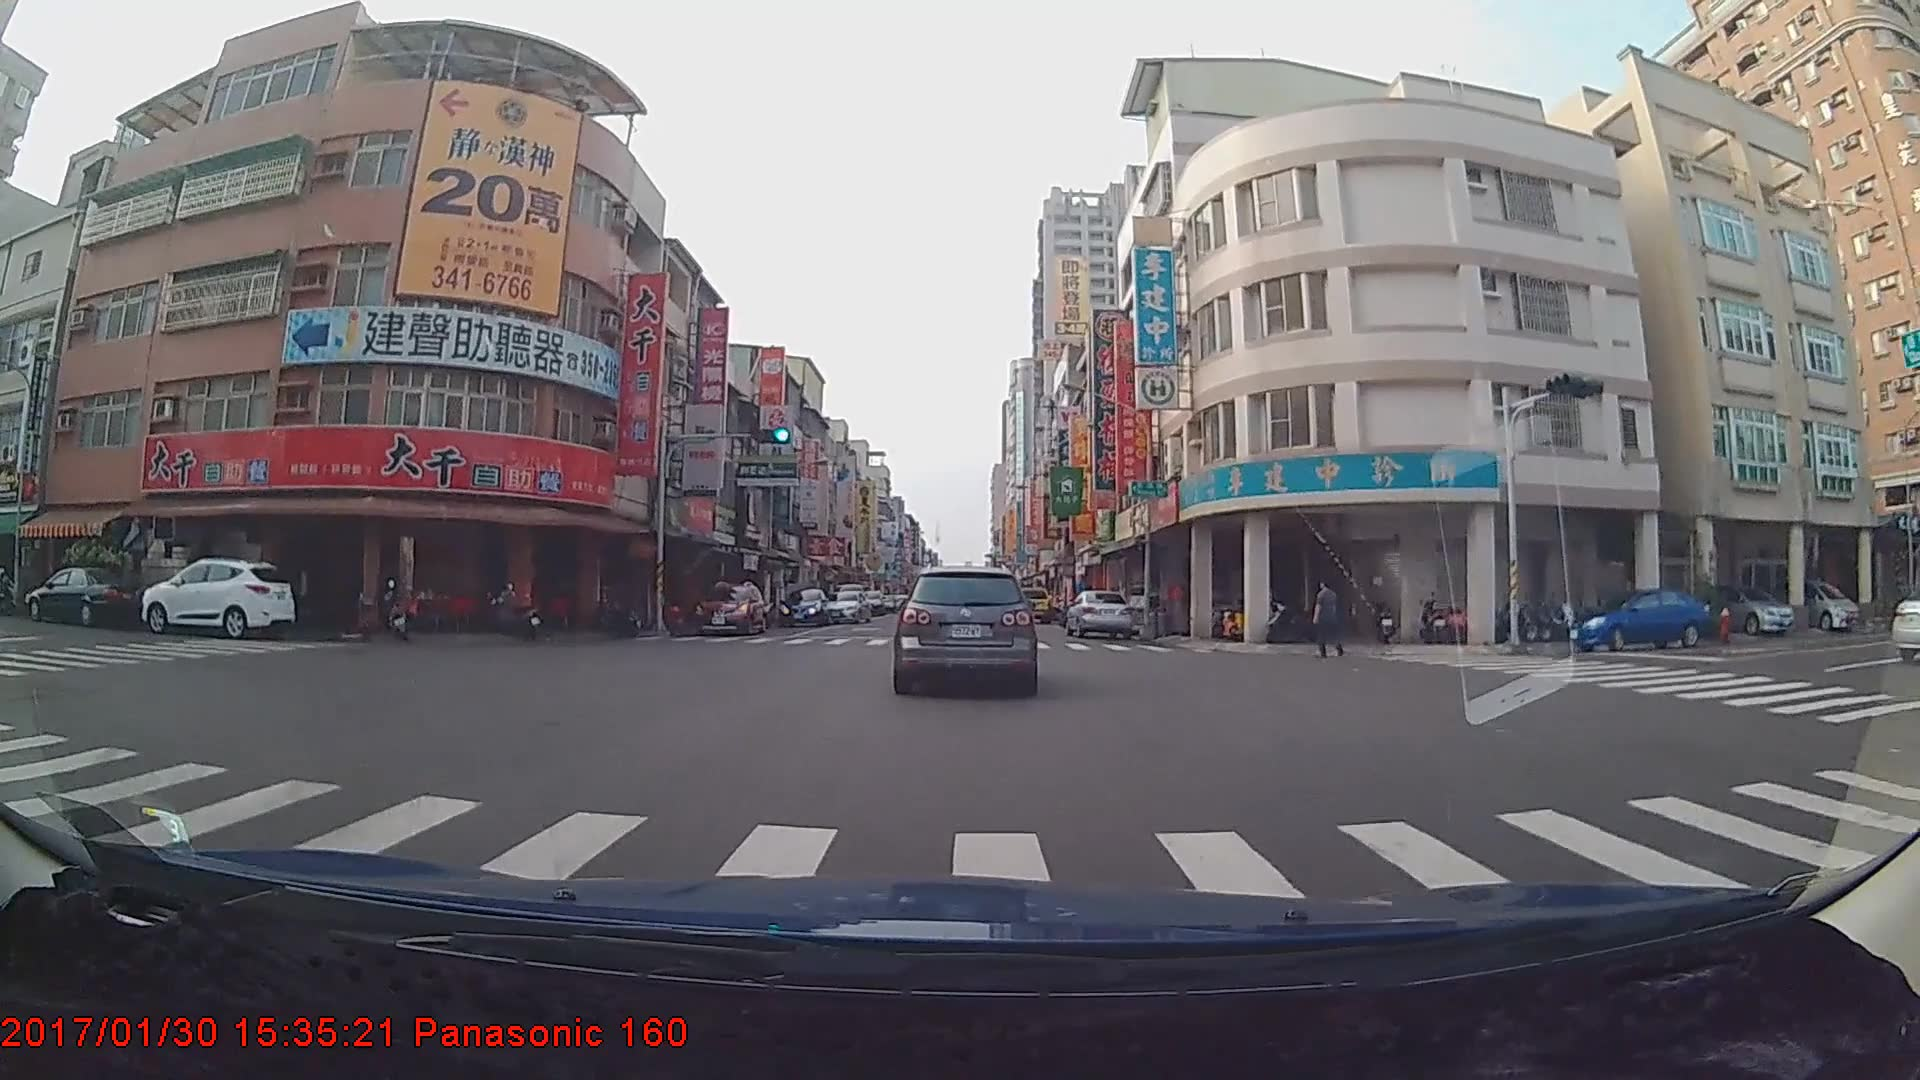pedestrian: (1311, 580, 1349, 664)
vehicle: (891, 563, 1038, 695), (139, 559, 293, 641), (1570, 590, 1711, 653), (24, 565, 147, 628), (1691, 580, 1801, 637), (1763, 575, 1861, 635), (690, 581, 765, 636), (1061, 588, 1134, 641), (778, 588, 833, 629), (818, 590, 872, 623), (1013, 587, 1053, 623)
